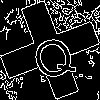Q: (25, 25, 79, 85)
